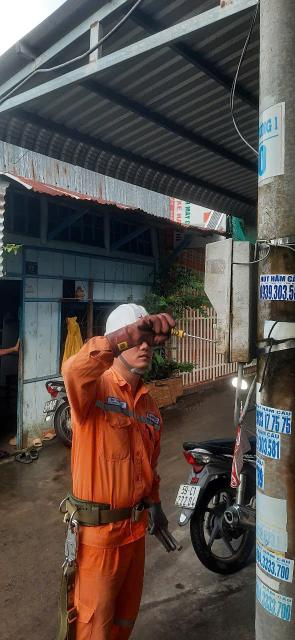gloves: (96, 307, 182, 354), (139, 495, 178, 548)
harness: (61, 478, 153, 538)
helmet: (104, 291, 159, 347)
